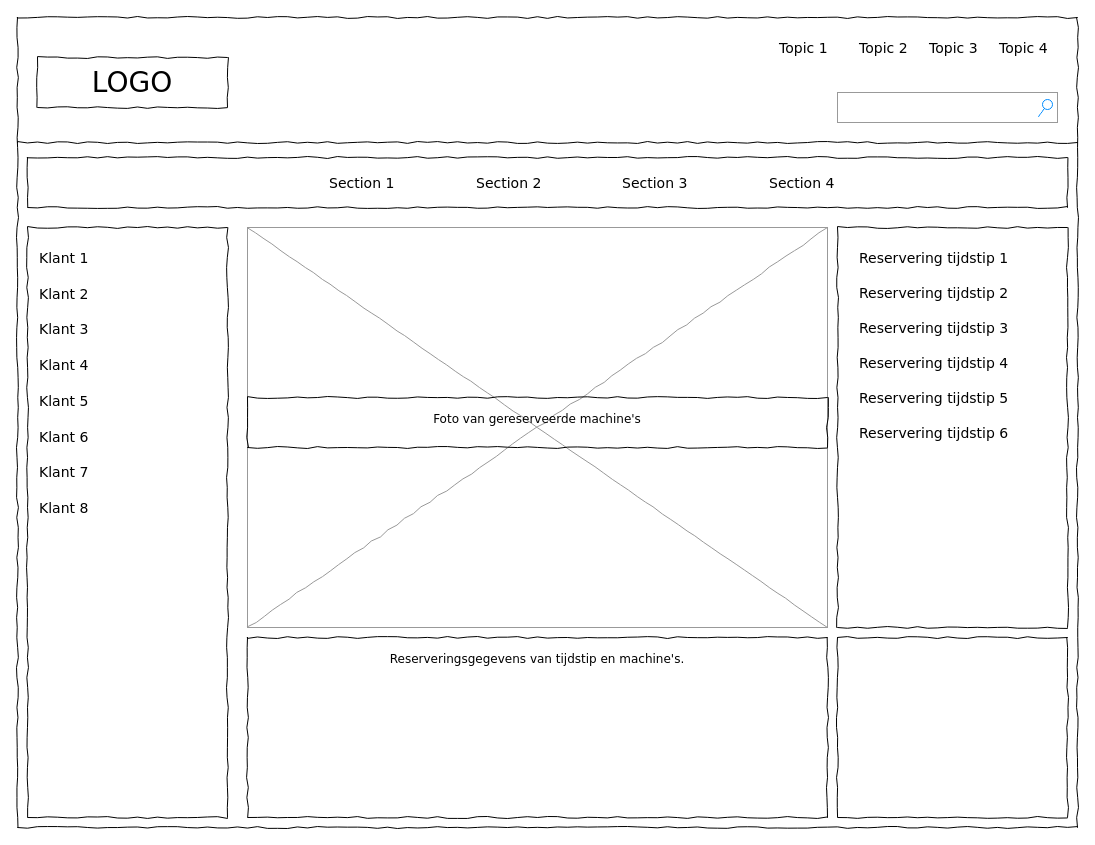
Image size: 1095x845. Some labels were removed from this diagram. Each missing label, with the centre of its shape:
"Extra data van klant." goes at point 952,727.
"Search" goes at point 947,107.
